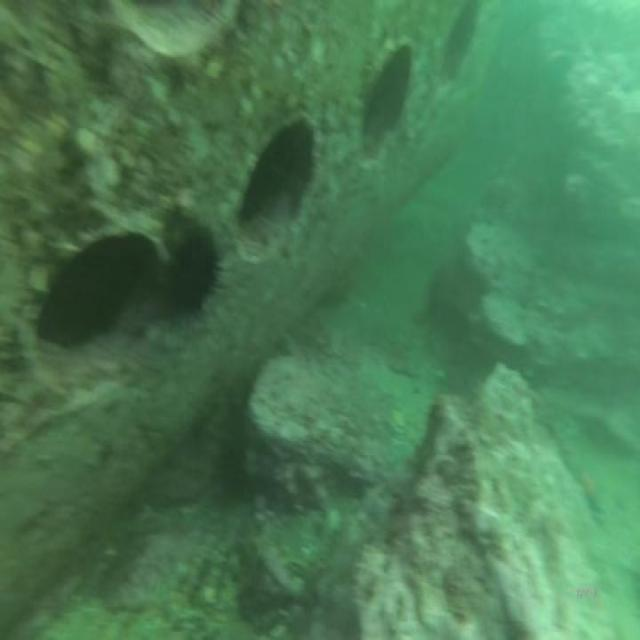echinus: (162, 224, 213, 326)
